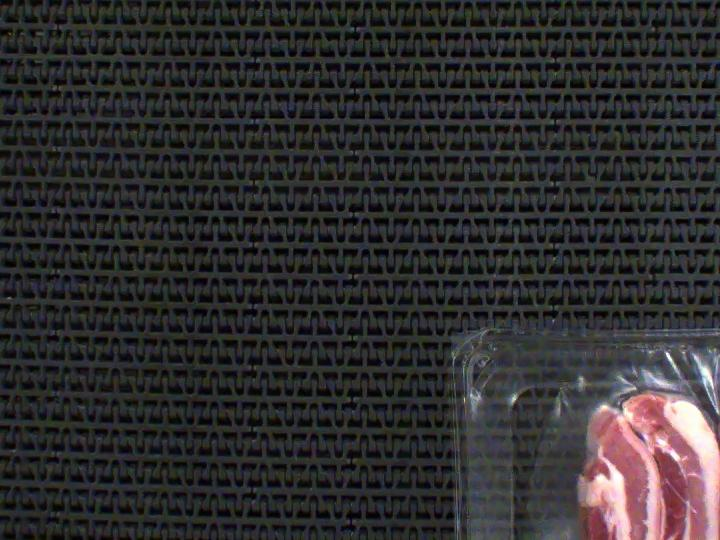unsealed: (507, 335, 720, 540)
